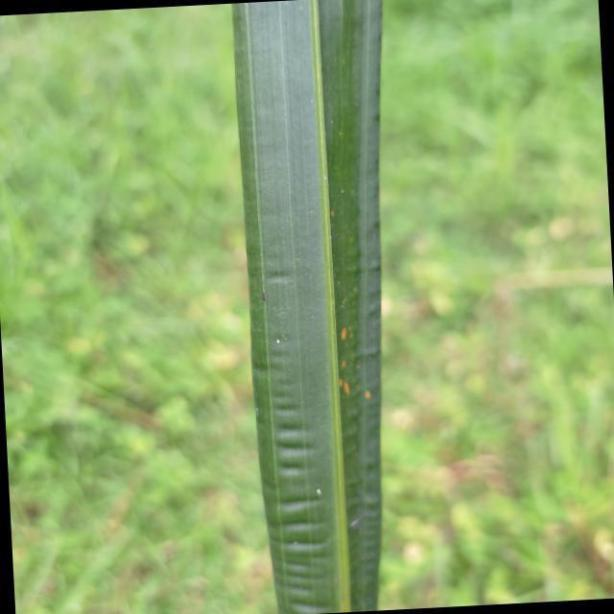Boron: (227, 0, 384, 614)
